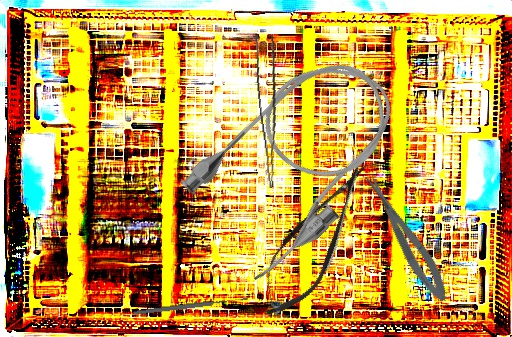Cannula: (168, 33, 426, 291)
Micro Scissor: (244, 149, 386, 329), (360, 167, 454, 307)
Surgical Spoon: (133, 296, 248, 316)
Tissue Forceps: (250, 34, 292, 188)
